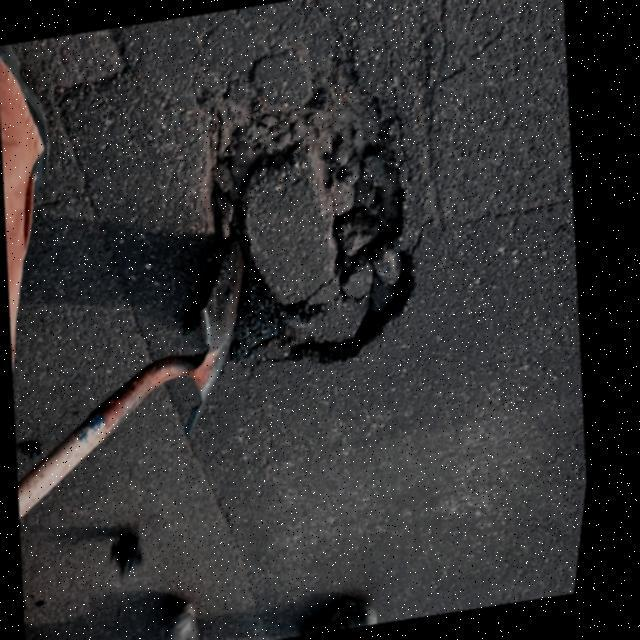pothole: (173, 61, 463, 399)
